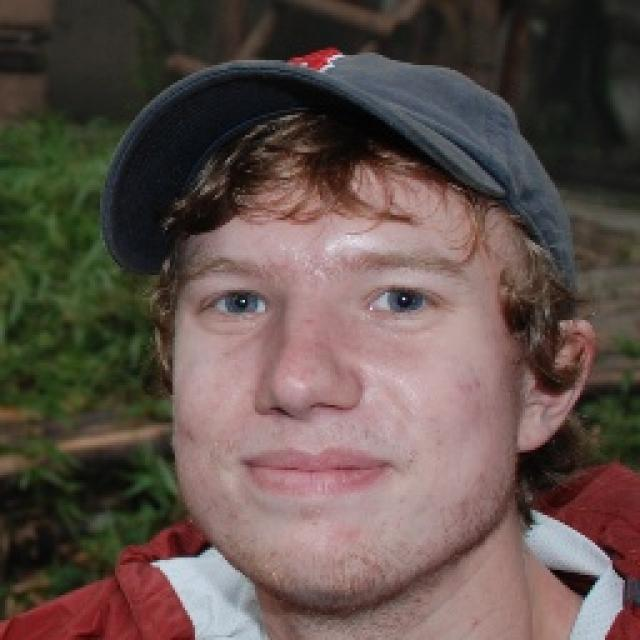earlobe: (518, 414, 558, 454)
eye: (366, 284, 434, 315), (202, 290, 270, 320)
nose: (254, 402, 364, 446)
wholeear: (521, 317, 596, 454)
